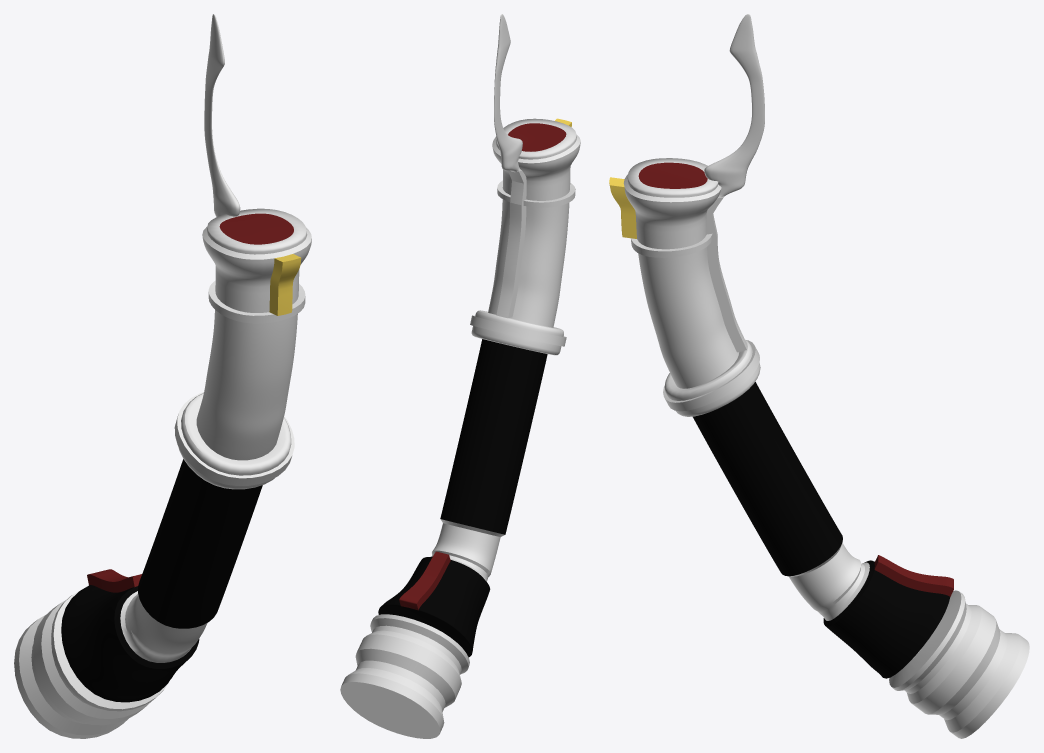
The model's file is Dooku.fbx.
3 renders of one model, left to right at view 1: azimuth 30°, elevation 25°; view 2: azimuth 150°, elevation 25°; view 3: azimuth 270°, elevation 25°, orthographic. The views are drawn at different scales.
Parts seen in each view (by area): view 1: Count Dooku's Lightsaber; view 2: Count Dooku's Lightsaber; view 3: Count Dooku's Lightsaber.
Part boxes in pixels (<box>): Count Dooku's Lightsaber: <box>14,14,311,738</box>; Count Dooku's Lightsaber: <box>340,14,580,738</box>; Count Dooku's Lightsaber: <box>609,14,1029,738</box>.
Bounding box in the file's own units: 8.77 × 58.76 × 31.23.
